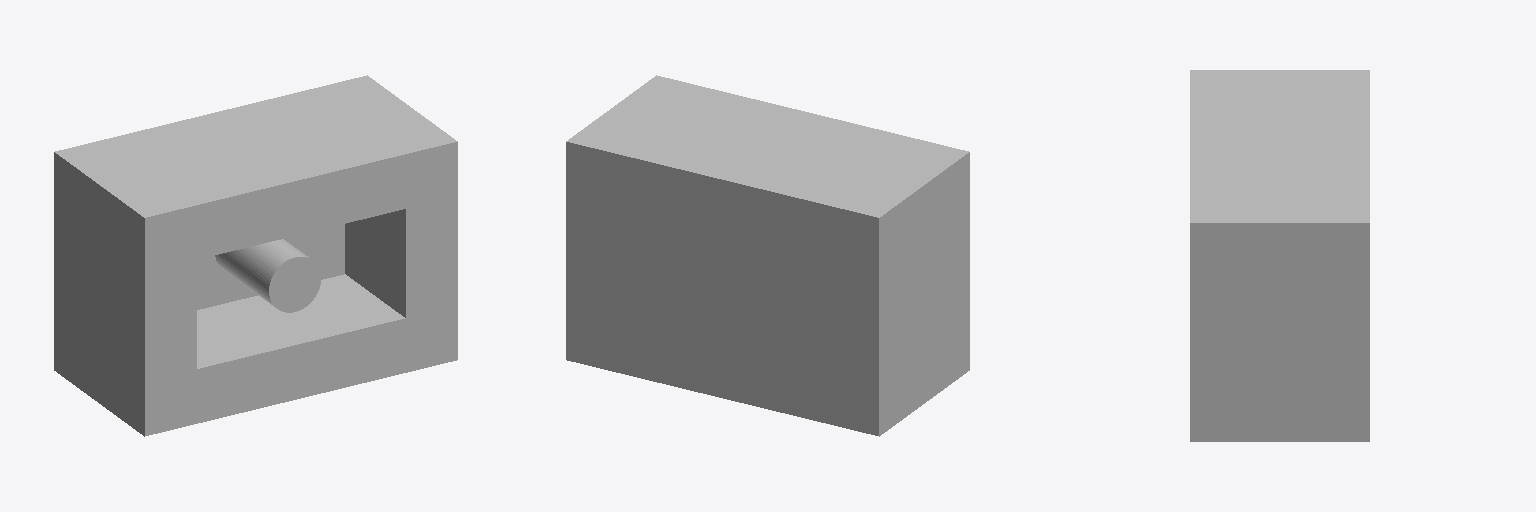
Rendered from tank5.obj.
3 renders of one model, left to right at view 1: azimuth 30°, elevation 25°; view 2: azimuth 150°, elevation 25°; view 3: azimuth 270°, elevation 25°, orthographic.
Size of the model in its own units: 3 by 2 by 1.5.